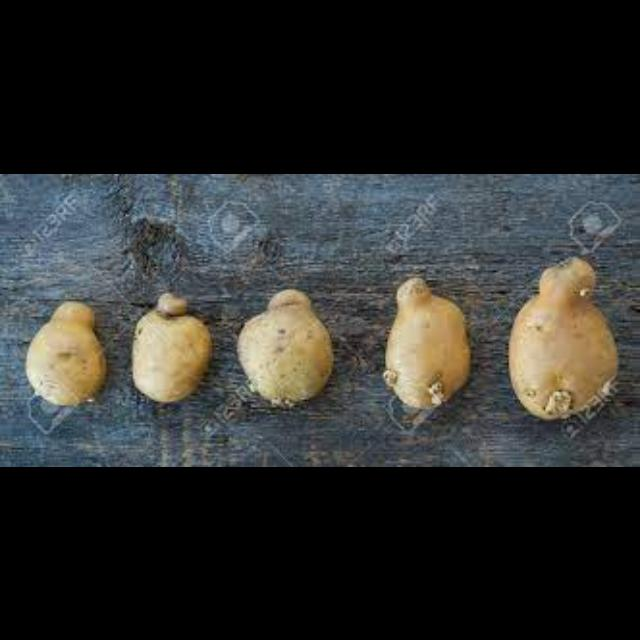Damaged potato: (508, 251, 624, 421), (128, 290, 210, 412), (21, 299, 105, 413)
Sprouted potato: (238, 278, 334, 418), (382, 276, 478, 412)
